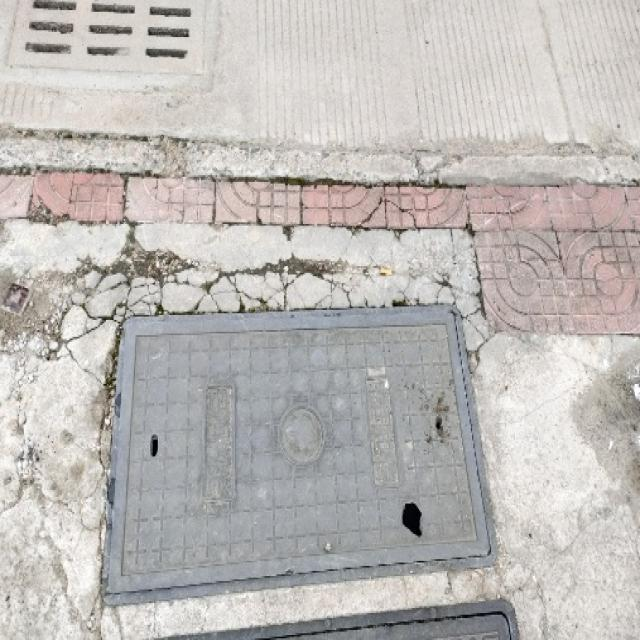Good: (96, 302, 511, 578)
